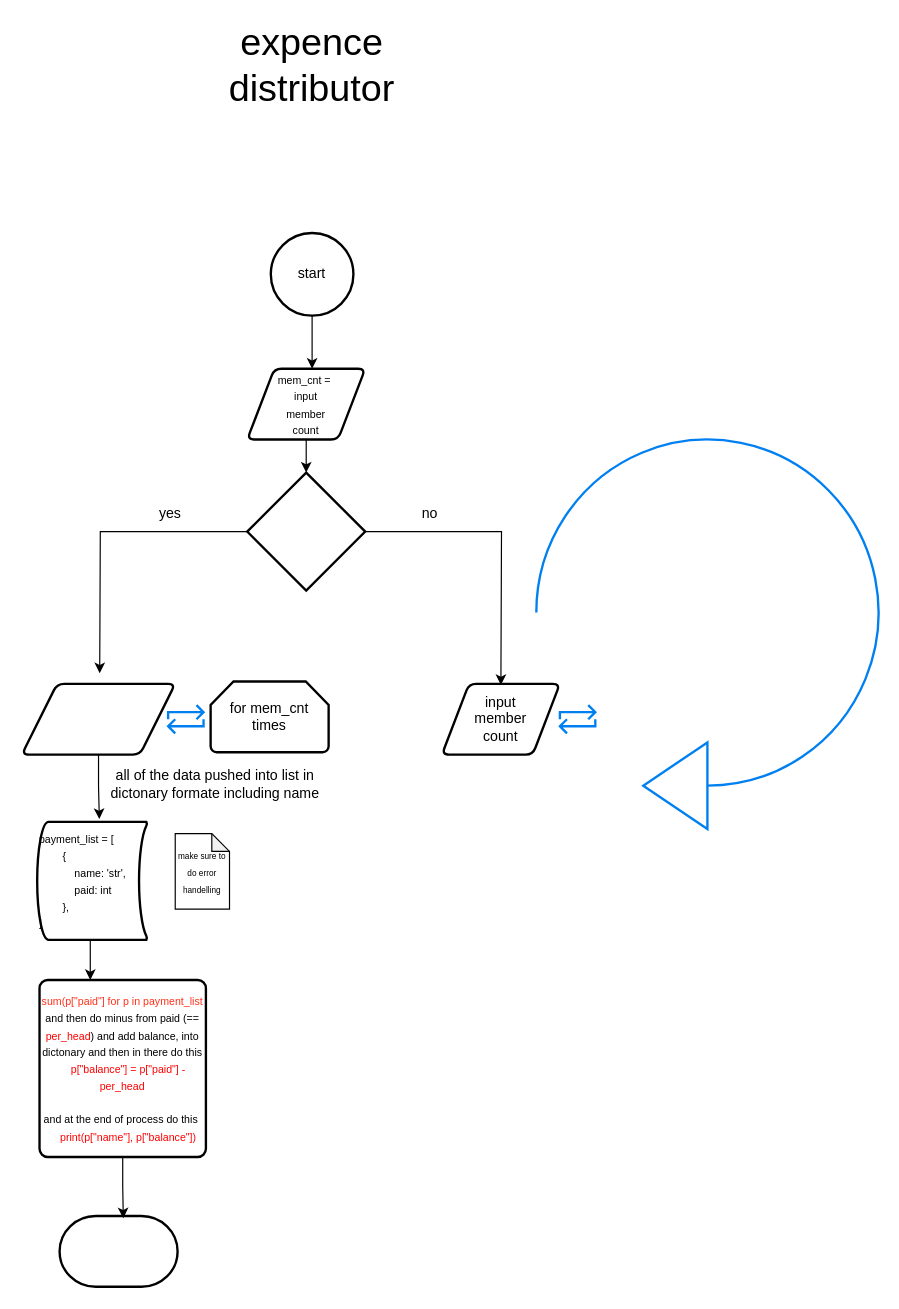
The diagram is 899 pixels wide and 1309 high, and some of its shapes have lost their labels. Here are the shapes that lost their labels. From the top down, the centre of each, then its label:
At pixel 305 531: "if input not null and not str".
At pixel 707 634: "Repeate".
At pixel 98 718: "input member name + investment into dictionary".
At pixel 118 1250: "End".
